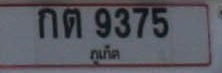txt01: (36, 7, 59, 40)
txt16: (61, 7, 83, 40)
